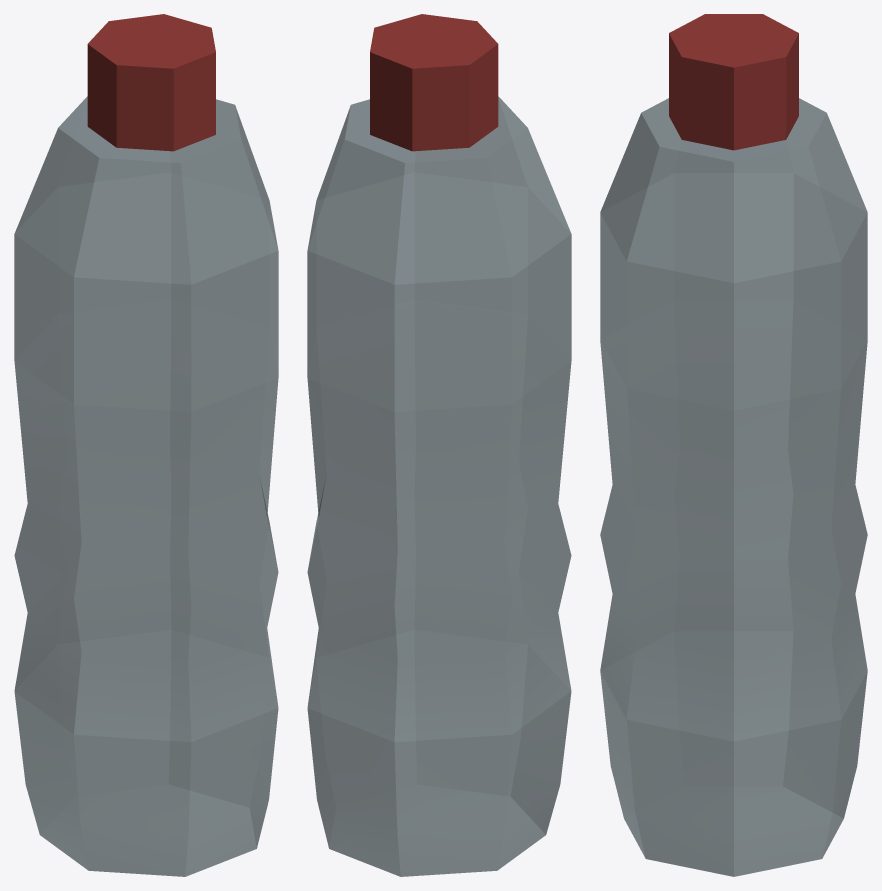
File: Water_Bottle.fbx
3 views of the same model, side by side, from view 1: azimuth 30°, elevation 25°; view 2: azimuth 150°, elevation 25°; view 3: azimuth 270°, elevation 25° (orthographic).
Parts seen in each view (by area): view 1: Water_Bottle; view 2: Water_Bottle; view 3: Water_Bottle.
Part boxes in pixels (x1,y1,x2,y2): Water_Bottle: (14,14,278,876); Water_Bottle: (307,14,571,876); Water_Bottle: (600,14,867,876).
Bounding box in the file's own units: 0.4976 × 1.66 × 0.5104.
